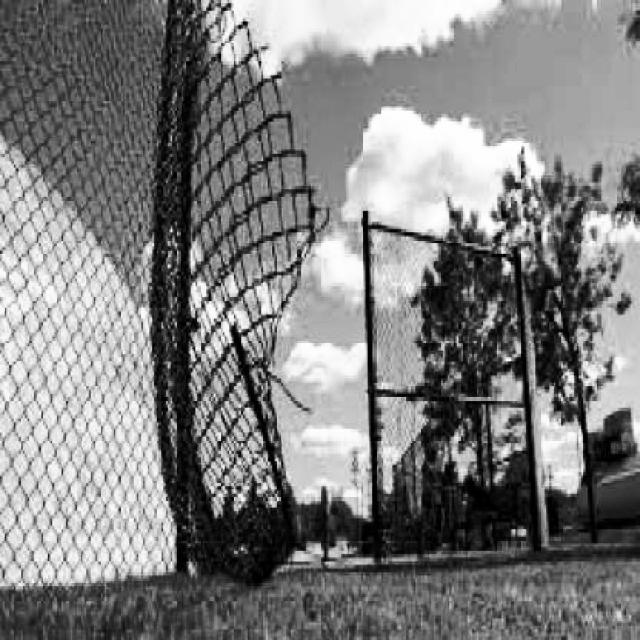anomaly-fence: (227, 28, 459, 561)
